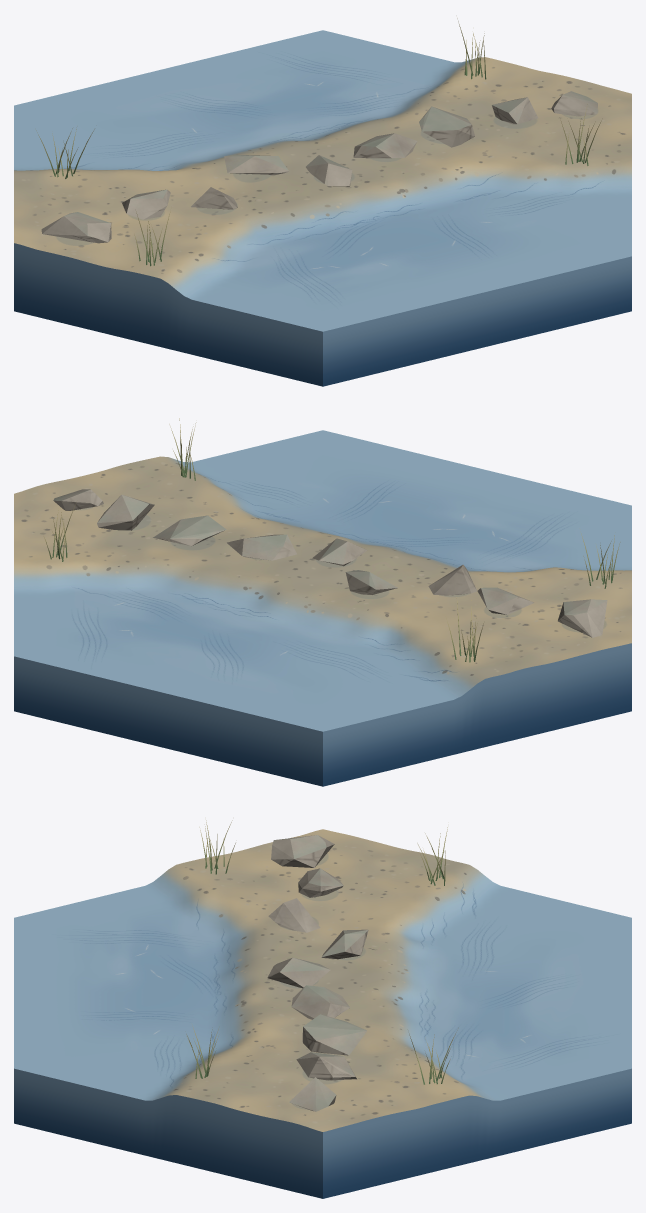
The model's file is Hex_Ford.glb.
The picture shows the model from 3 angles, top to bottom: view 1: azimuth 30°, elevation 25°; view 2: azimuth 150°, elevation 25°; view 3: azimuth 270°, elevation 25°; orthographic projection.
Parts seen in each view (by area): view 1: Hex_Ford; view 2: Hex_Ford; view 3: Hex_Ford.
Boxes of the visible parts, bbox=[...] form: Hex_Ford: bbox=[14, 18, 631, 386]; Hex_Ford: bbox=[14, 418, 631, 786]; Hex_Ford: bbox=[14, 820, 631, 1198].
Size of the model in its own units: 8 by 1.54 by 6.93.
Materials: 2 (2 with a texture image).
